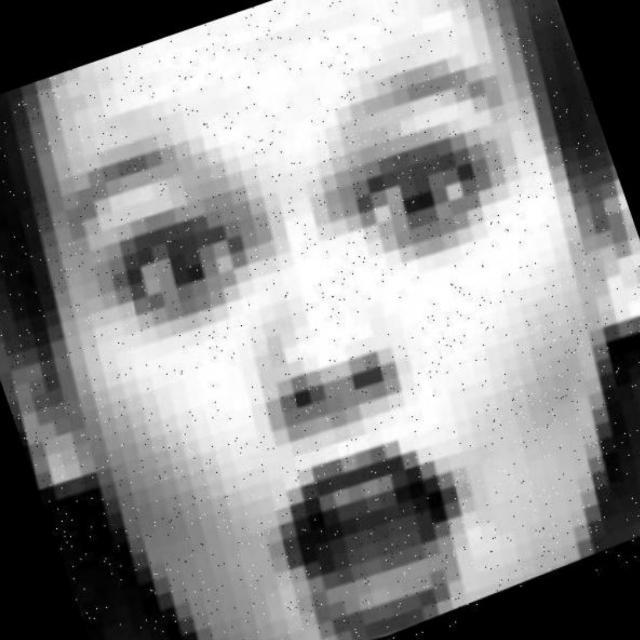surprised: (40, 75, 640, 640)
